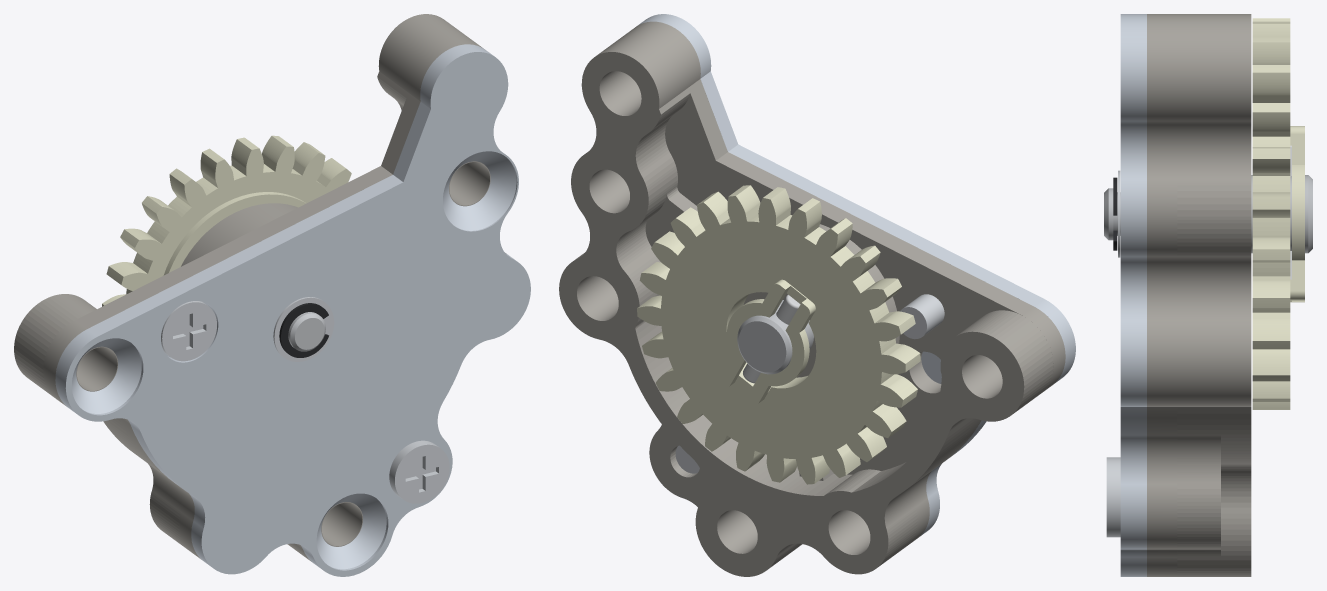
3 renders of one model, left to right at view 1: azimuth 30°, elevation 25°; view 2: azimuth 150°, elevation 25°; view 3: azimuth 270°, elevation 25°, orthographic. The views are drawn at different scales.
Visible parts, largest first — view 1: 02-cover, 01-body, 04-driven-gear, 08-cover-screw-b, 08-cover-screw-a, 03-shaft, 10-washer, 11-retaining-ring; view 2: 01-body, 04-driven-gear, 02-cover, 03-shaft, 08-cover-screw-a, 07-gear-pin; view 3: 01-body, 04-driven-gear, 02-cover, 03-shaft, 08-cover-screw-b, 11-retaining-ring.
Part boxes in pixels (box(x1,y1,x2,y2)): 02-cover: box(55, 44, 530, 576); 01-body: box(14, 14, 506, 561); 04-driven-gear: box(102, 135, 351, 306); 08-cover-screw-b: box(389, 440, 449, 503); 08-cover-screw-a: box(161, 301, 216, 361); 03-shaft: box(288, 312, 325, 351); 10-washer: box(273, 297, 334, 361); 11-retaining-ring: box(279, 303, 328, 357); 01-body: box(559, 21, 1065, 576); 04-driven-gear: box(637, 185, 920, 484); 02-cover: box(636, 14, 1075, 536); 03-shaft: box(737, 300, 813, 374); 08-cover-screw-a: box(900, 294, 944, 339); 07-gear-pin: box(743, 294, 800, 383); 01-body: box(1147, 14, 1251, 576); 04-driven-gear: box(1252, 18, 1304, 409); 02-cover: box(1120, 14, 1146, 576); 03-shaft: box(1104, 175, 1312, 253); 08-cover-screw-b: box(1106, 457, 1120, 537); 11-retaining-ring: box(1113, 177, 1117, 250).
Bounding box in the file's own units: 0.0778 × 0.079 × 0.024.
